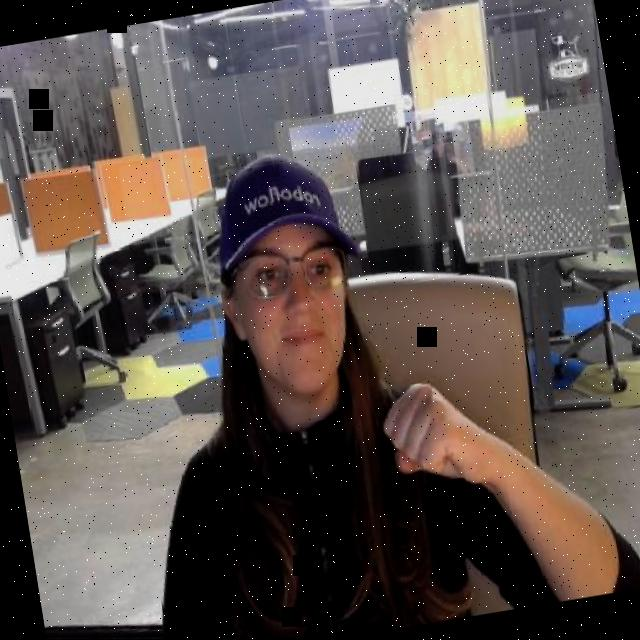Rock: (370, 372, 491, 509)
